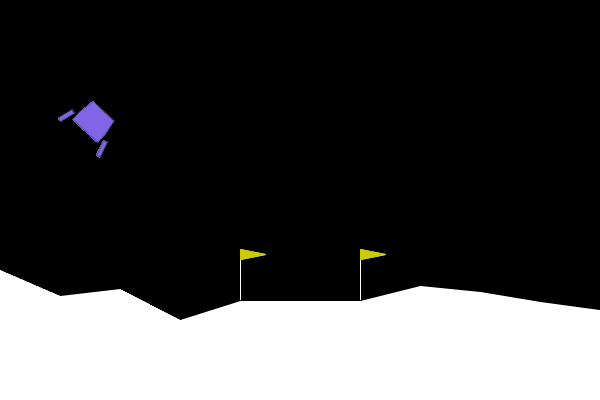lander: (55, 89, 127, 160)
